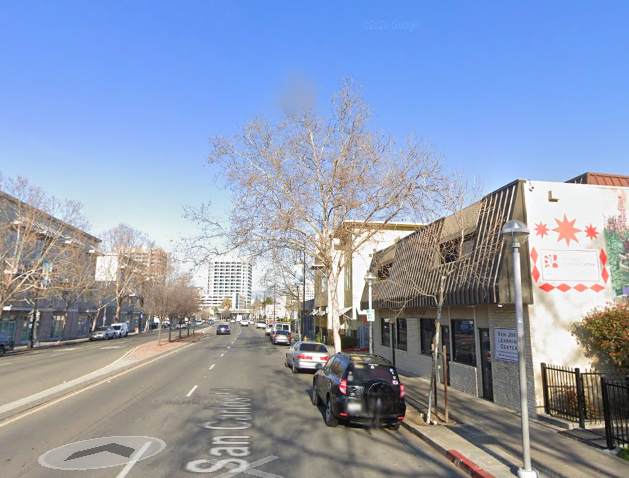tree: (168, 74, 456, 354)
